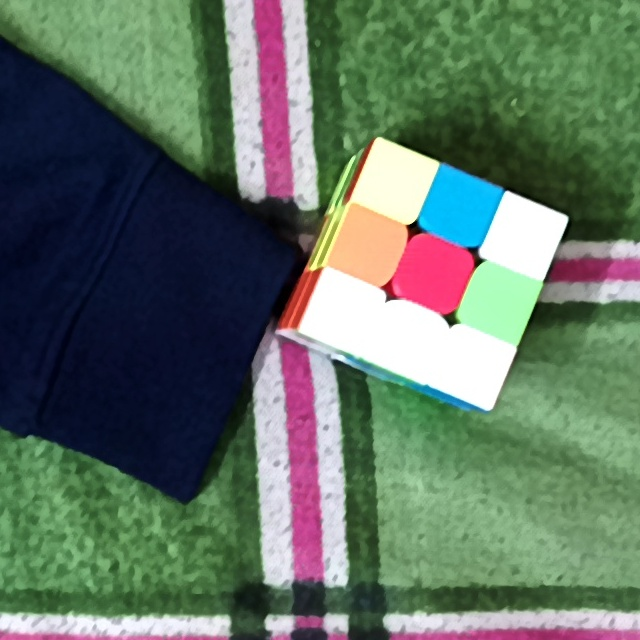tile: (499, 209, 549, 261), (381, 310, 432, 360), (447, 340, 499, 388), (478, 277, 525, 325), (441, 182, 484, 234), (347, 223, 391, 273), (410, 251, 456, 296), (376, 159, 415, 210), (322, 288, 364, 335)
